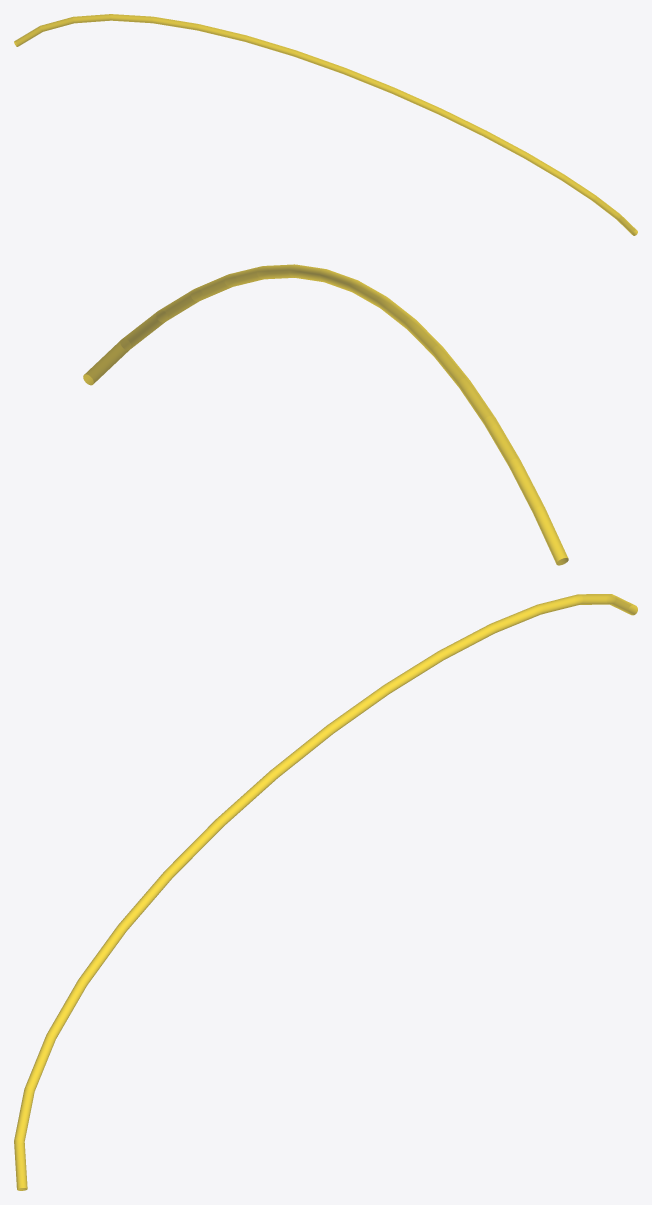
Rendered from Event_17758602_track_117.fbx.
3 renders of one model, top to bottom at view 1: azimuth 30°, elevation 25°; view 2: azimuth 150°, elevation 25°; view 3: azimuth 270°, elevation 25°, orthographic. The views are drawn at different scales.
Visible parts, largest first — view 1: Model; view 2: Model; view 3: Model.
Part boxes in pixels (x1,y1,x2,y2): Model: (14,14,637,235); Model: (83,264,568,565); Model: (14,594,637,1190).
Bounding box in the file's own units: 2.98 × 1.27 × 2.33.
